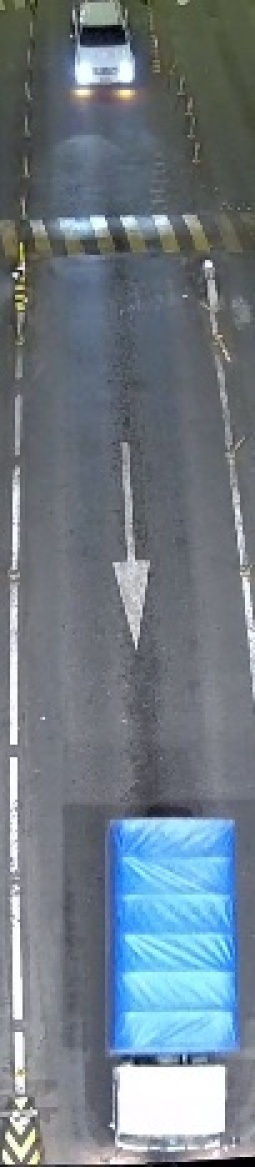car: (59, 4, 140, 87)
truck: (102, 806, 244, 1158)
